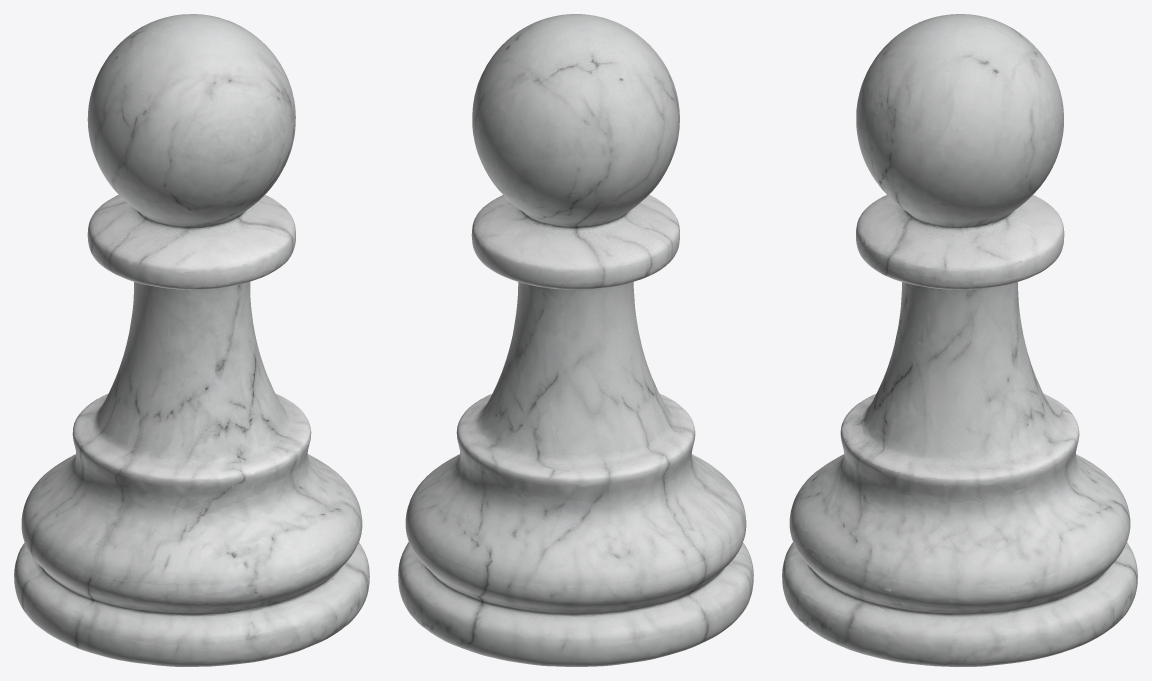
File: pawn-lo.glb
3 views of the same model, side by side, from view 1: azimuth 30°, elevation 25°; view 2: azimuth 150°, elevation 25°; view 3: azimuth 270°, elevation 25° (orthographic).
Parts seen in each view (by area): view 1: Mesh_0; view 2: Mesh_0; view 3: Mesh_0.
Boxes of the visible parts, x1,y1,x2,y2 form: Mesh_0: (14,14,369,666); Mesh_0: (398,14,753,666); Mesh_0: (782,14,1137,666).
Bounding box in the file's own units: 1.07 × 1.9 × 1.07.
Materials: 1 (1 with a texture image).
